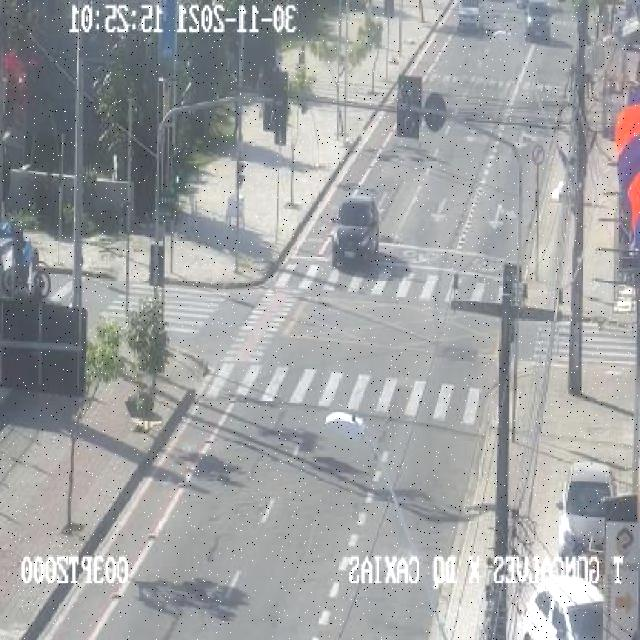car: (556, 460, 618, 560), (522, 574, 604, 640), (332, 194, 379, 272), (524, 0, 552, 38), (456, 0, 482, 32)
motorbike: (2, 216, 52, 301)
